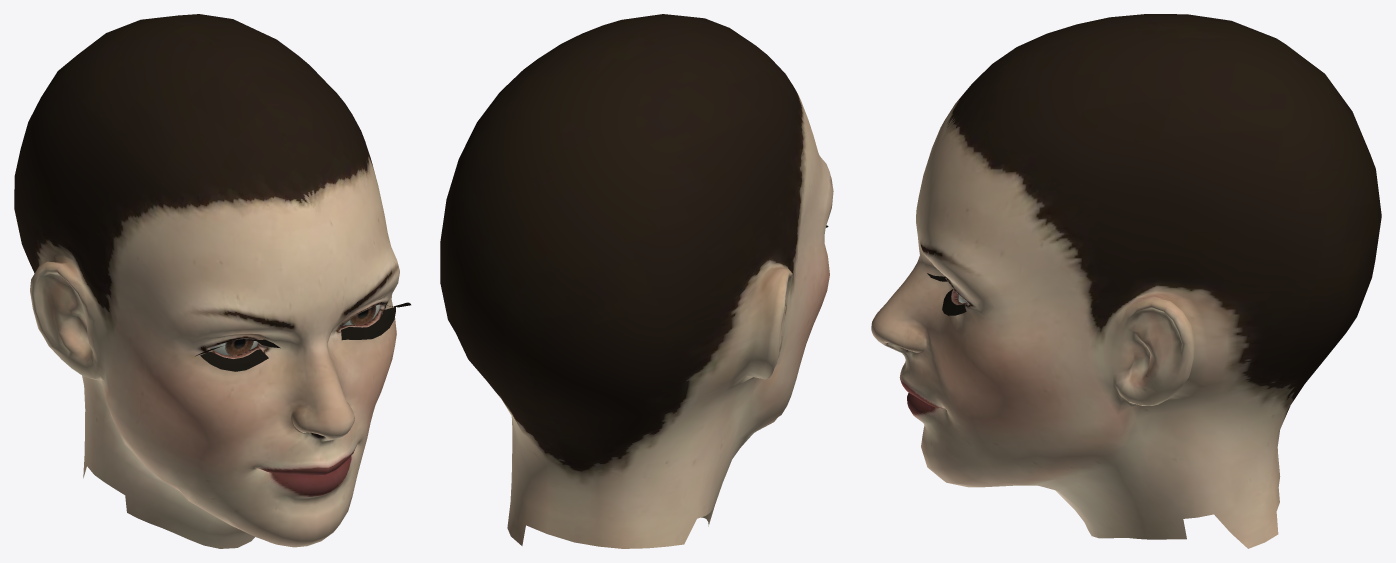
File: female_head.glb
3 renders of one model, left to right at view 1: azimuth 30°, elevation 25°; view 2: azimuth 150°, elevation 25°; view 3: azimuth 270°, elevation 25°, orthographic. The views are drawn at different scales.
Visible parts, largest first — view 1: Body, Eyelashes, Eyes; view 2: Body; view 3: Body.
Boxes of the visible parts, left/top/right/bottom form: Body: left=14, top=14, right=399, bottom=548; Eyelashes: left=195, top=302, right=410, bottom=371; Eyes: left=209, top=305, right=380, bottom=355; Body: left=440, top=14, right=833, bottom=548; Body: left=871, top=14, right=1381, bottom=548.
Bounding box in the file's own units: 0.1657 × 0.2408 × 0.222.
1 material, 1 textured.
